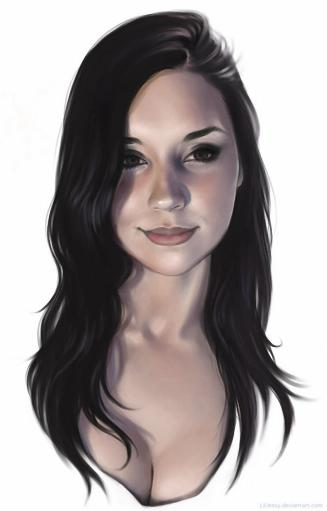left_eye: (185, 144, 223, 170)
left_lip_corner: (192, 222, 205, 239)
right_eye: (123, 155, 151, 175)
right_lip_corner: (134, 221, 150, 243)
